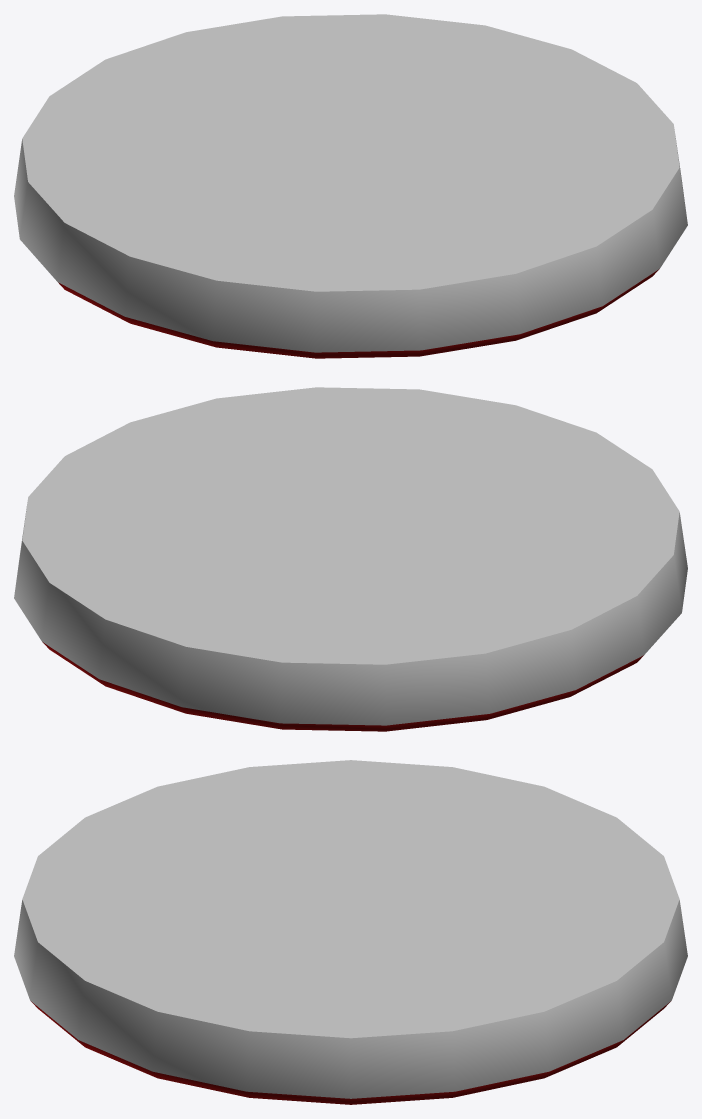
File: Target.fbx
3 renders of one model, top to bottom at view 1: azimuth 30°, elevation 25°; view 2: azimuth 150°, elevation 25°; view 3: azimuth 270°, elevation 25°, orthographic.
Visible parts, largest first — view 1: Bullseye1.001; view 2: Bullseye1.001; view 3: Bullseye1.001.
Boxes of the visible parts, x1,y1,x2,y2 form: Bullseye1.001: (14, 14, 687, 358); Bullseye1.001: (14, 387, 687, 731); Bullseye1.001: (14, 760, 687, 1104).
Bounding box in the file's own units: 3.73 × 0.4262 × 3.73.
